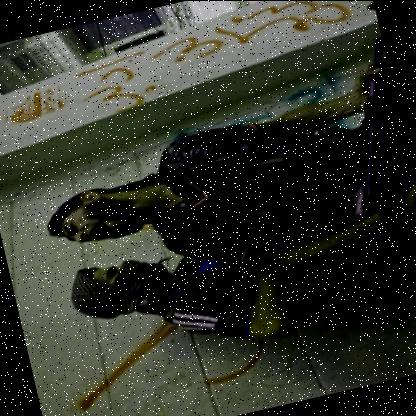rifle: (301, 0, 416, 310)
